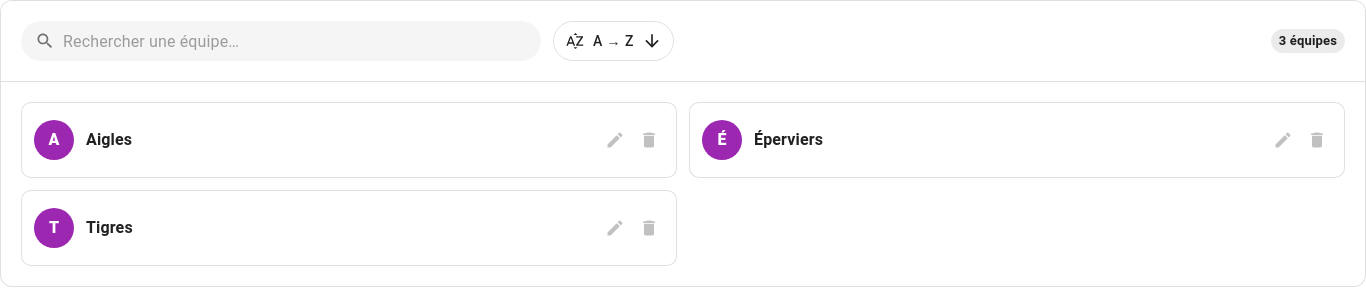
Test case: TeamList › should filter teams ignoring case and accents, then clear the search
This screenshot has width=1366, height=304.
Type "eper" into the field labelled "Rechercher une équipe". click: (302,41)
box: top-left (63, 21), bottom-right (541, 61)
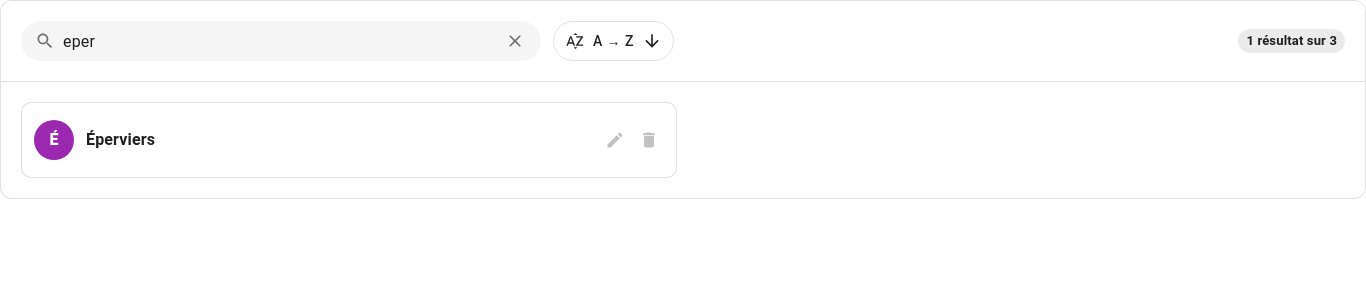
Expected: the text "Éperviers" is shown, top-left (86, 130), bottom-right (155, 149)
Now the text "Tigres" is gone
Now the text "1 résultat sur 3" is shown, box top-left (1246, 33), bottom-right (1337, 48)
Click the button named "Effacer la recherche". click: (515,41)
box: top-left (500, 26), bottom-right (530, 56)
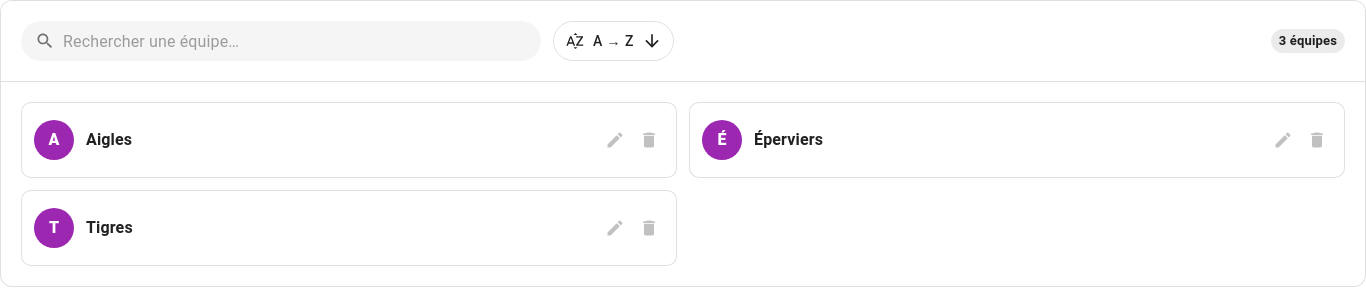
Now the text "Tigres" is shown, box top-left (86, 218), bottom-right (133, 237)
Now the text "3 équipes" is shown, box top-left (1279, 33), bottom-right (1337, 48)
